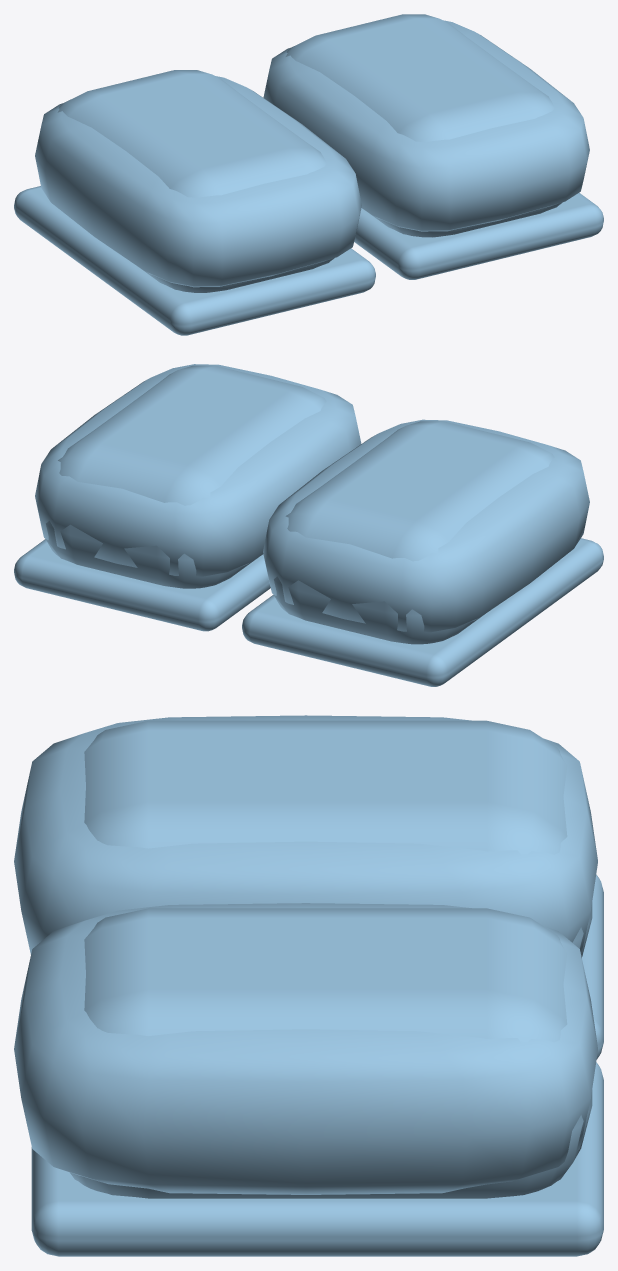
Rendered from dal_slippers.glb.
3 views of the same model, one above another, from view 1: azimuth 30°, elevation 25°; view 2: azimuth 150°, elevation 25°; view 3: azimuth 270°, elevation 25° (orthographic). The views are drawn at different scales.
Parts seen in each view (by area): view 1: dal_slippers_LegL, dal_slippers_LegR; view 2: dal_slippers_LegL, dal_slippers_LegR; view 3: dal_slippers_LegR, dal_slippers_LegL.
Part boxes in pixels (left/top/right/bottom): dal_slippers_LegL: left=14, top=70, right=375, bottom=335; dal_slippers_LegR: left=263, top=14, right=603, bottom=279; dal_slippers_LegL: left=242, top=419, right=603, bottom=686; dal_slippers_LegR: left=14, top=364, right=361, bottom=631; dal_slippers_LegR: left=14, top=903, right=603, bottom=1256; dal_slippers_LegL: left=14, top=715, right=603, bottom=1059.
Bounding box in the file's own units: 0.37 × 0.1075 × 0.2525.
